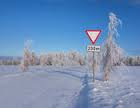yield_sign: (86, 30, 101, 45)
